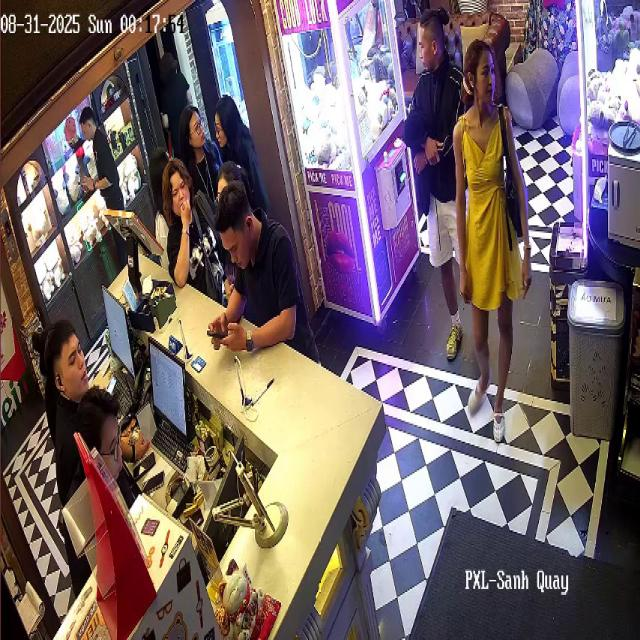khach: (462, 38, 516, 436), (409, 14, 464, 338), (217, 183, 310, 351), (162, 155, 220, 287), (216, 99, 274, 184), (147, 147, 170, 264), (181, 95, 214, 150)
nhan vien: (77, 103, 124, 225), (78, 392, 131, 483), (51, 318, 90, 427), (156, 47, 198, 126)
